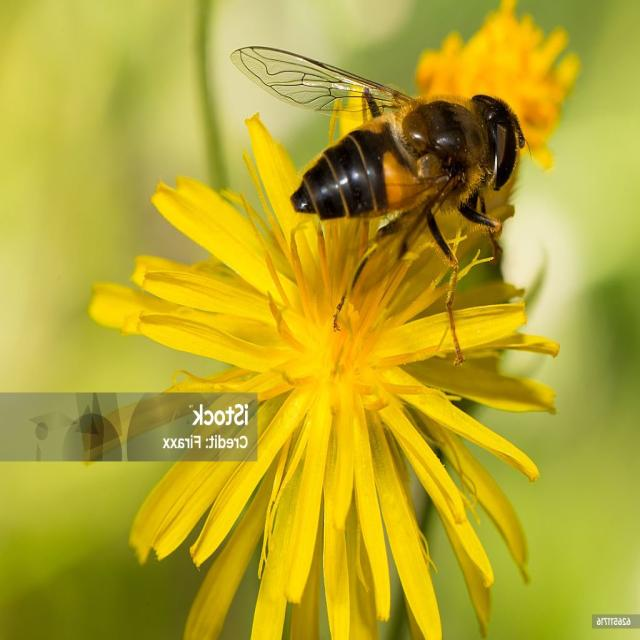hoverfly: (227, 35, 534, 364)
